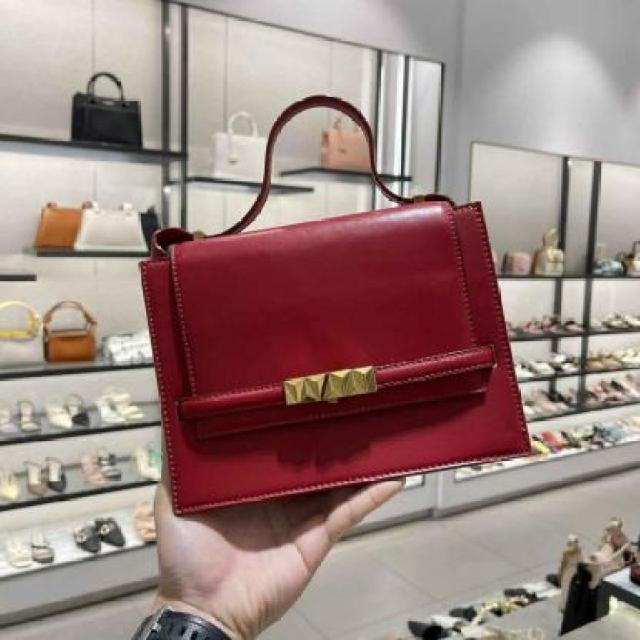Bag: (87, 48, 568, 526)
